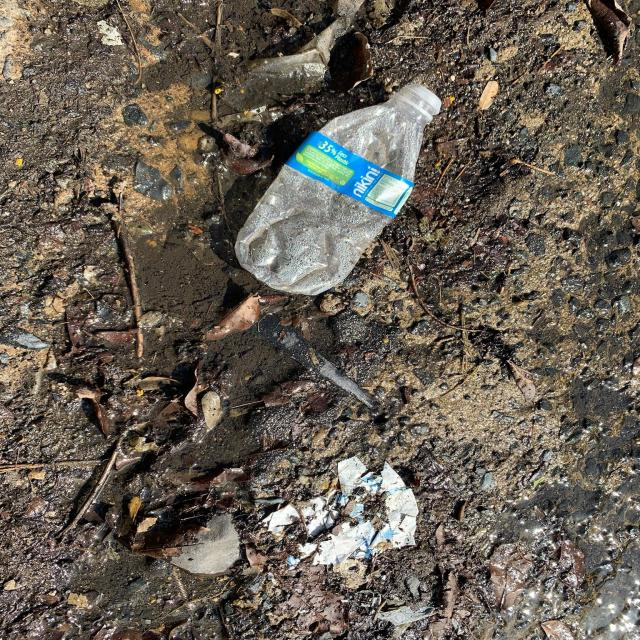litter: (234, 82, 442, 295), (259, 454, 419, 564), (282, 130, 415, 218), (401, 83, 442, 114)
